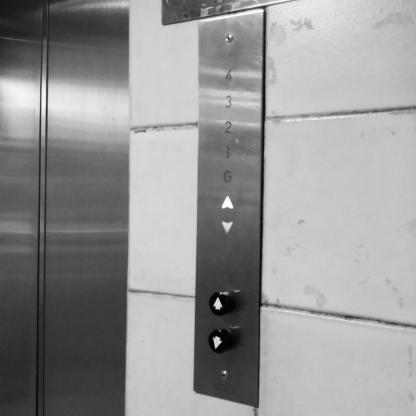down: (206, 326, 238, 357)
up: (204, 288, 236, 320)
